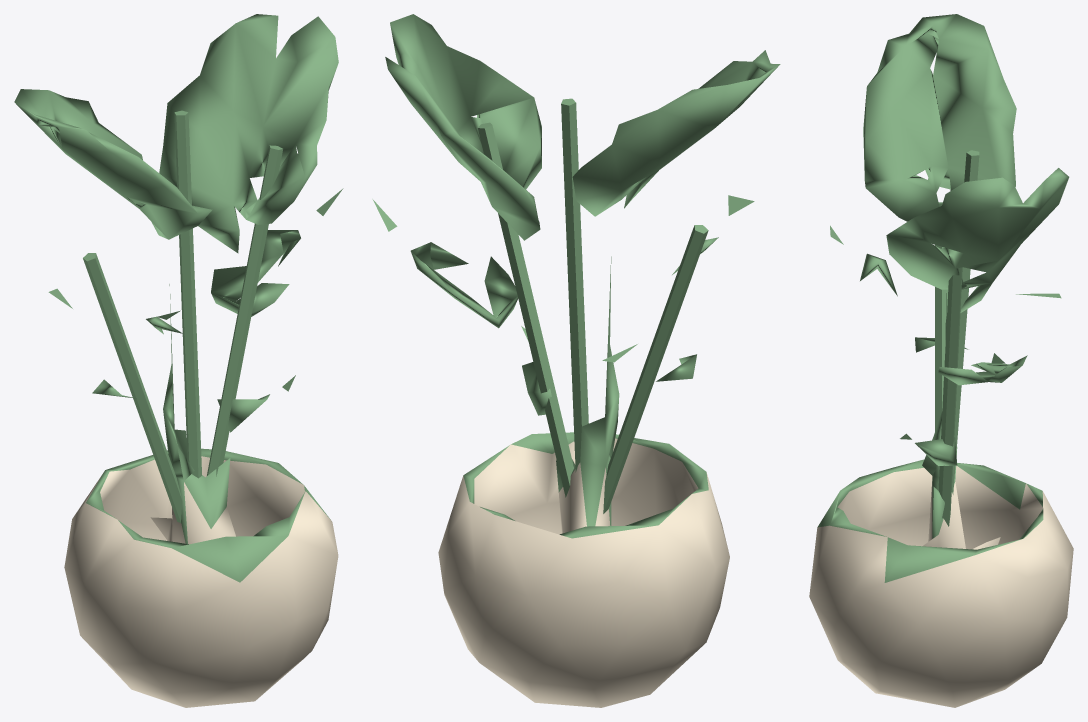
The picture shows the model from 3 angles, left to right: view 1: azimuth 30°, elevation 25°; view 2: azimuth 150°, elevation 25°; view 3: azimuth 270°, elevation 25°; orthographic projection. The views are drawn at different scales.
Visible parts, largest first — view 1: 넓은 잎 화분, Reinforced branch.002, Reinforced branch.001, Reinforced branch; view 2: 넓은 잎 화분, Reinforced branch.002, Reinforced branch.001, Reinforced branch; view 3: 넓은 잎 화분, Reinforced branch.001, Reinforced branch.002, Reinforced branch.
Boxes of the visible parts, x1,y1,x2,y2 form: 넓은 잎 화분: (14,14,343,707); Reinforced branch.002: (174,110,201,478); Reinforced branch.001: (207,145,282,476); Reinforced branch: (83,253,182,522); 넓은 잎 화분: (372,14,780,707); Reinforced branch.002: (561,98,588,472); Reinforced branch.001: (478,122,573,497); Reinforced branch: (603,225,708,513); 넓은 잎 화분: (809,14,1073,707); Reinforced branch.001: (938,267,962,526); Reinforced branch.002: (951,150,979,494); Reinforced branch: (935,202,948,431).
Bounding box in the file's own units: 0.485 × 0.818 × 0.3338.
Materials: 1 (1 with a texture image).
